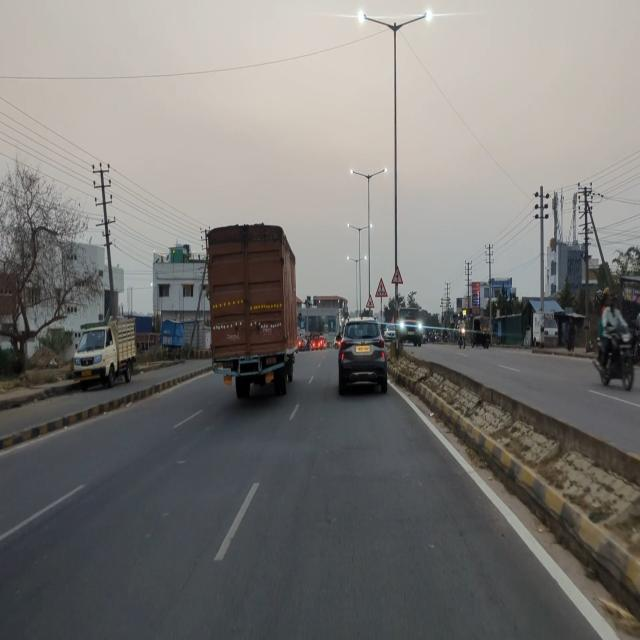bien_cam: (374, 275, 388, 298), (391, 266, 404, 285), (366, 293, 374, 309)
